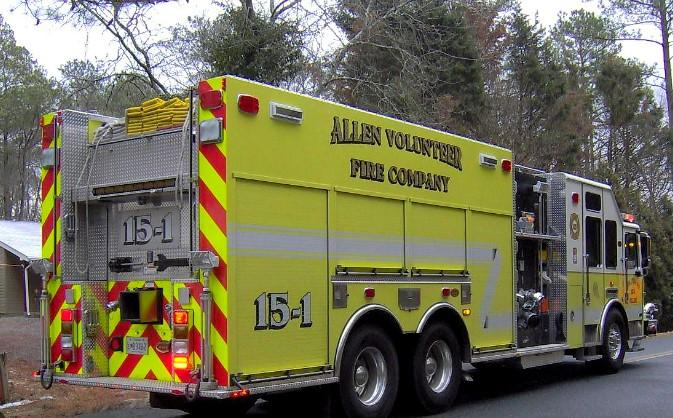firetruck_off: (38, 77, 661, 417)
